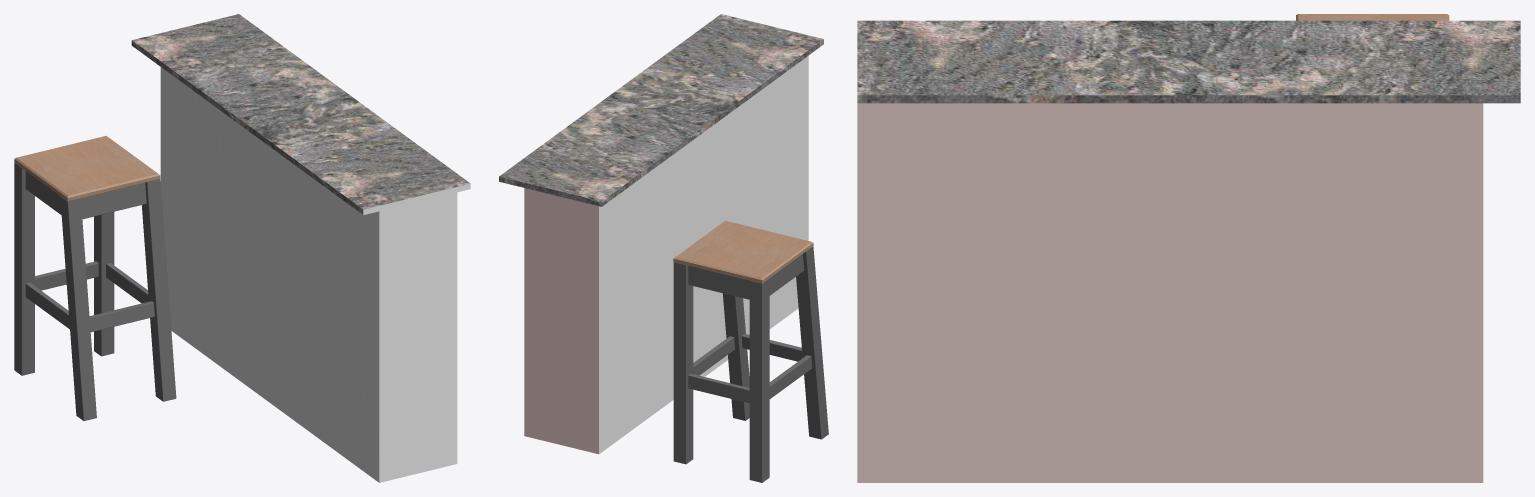
The model's file is mutfakdolapları1.dae.
3 views of the same model, side by side, from view 1: azimuth 30°, elevation 25°; view 2: azimuth 150°, elevation 25°; view 3: azimuth 270°, elevation 25° (orthographic). The views are drawn at different scales.
Parts seen in each view (by area): view 1: Component_14 (×2), Front_Leg (×2), Rear_Leg (×2), group_1, Side_Bridge (×2), Component_20, Component_18, Read_Bridge, Component_19; view 2: Component_14 (×3), Rear_Leg (×2), Front_Leg (×2), group_1, Side_Bridge (×2), Component_17, Read_Bridge, Component_19, Component_18; view 3: Component_14 (×2), group_1.
Part boxes in pixels (bbox=[...]): Component_14 (×2): bbox=[131, 14, 470, 482]; Front_Leg (×2): bbox=[60, 179, 176, 420]; Rear_Leg (×2): bbox=[14, 162, 114, 375]; group_1: bbox=[14, 135, 160, 201]; Side_Bridge (×2): bbox=[25, 263, 148, 329]; Component_20: bbox=[81, 182, 146, 219]; Component_18: bbox=[89, 301, 154, 332]; Read_Bridge: bbox=[35, 261, 98, 290]; Component_19: bbox=[25, 171, 61, 214]; Component_14 (×3): bbox=[499, 14, 823, 454]; Rear_Leg (×2): bbox=[673, 262, 769, 482]; Front_Leg (×2): bbox=[722, 246, 828, 439]; group_1: bbox=[673, 220, 813, 283]; Side_Bridge (×2): bbox=[693, 336, 812, 398]; Component_17: bbox=[688, 265, 749, 299]; Read_Bridge: bbox=[688, 373, 749, 403]; Component_19: bbox=[769, 254, 804, 295]; Component_18: bbox=[741, 333, 802, 361]; Component_14 (×2): bbox=[857, 20, 1520, 482]; group_1: bbox=[1296, 14, 1449, 20].
Size of the model in its own units: 37.12 by 59.65 by 39.37.
Materials: 6 (3 with a texture image).
